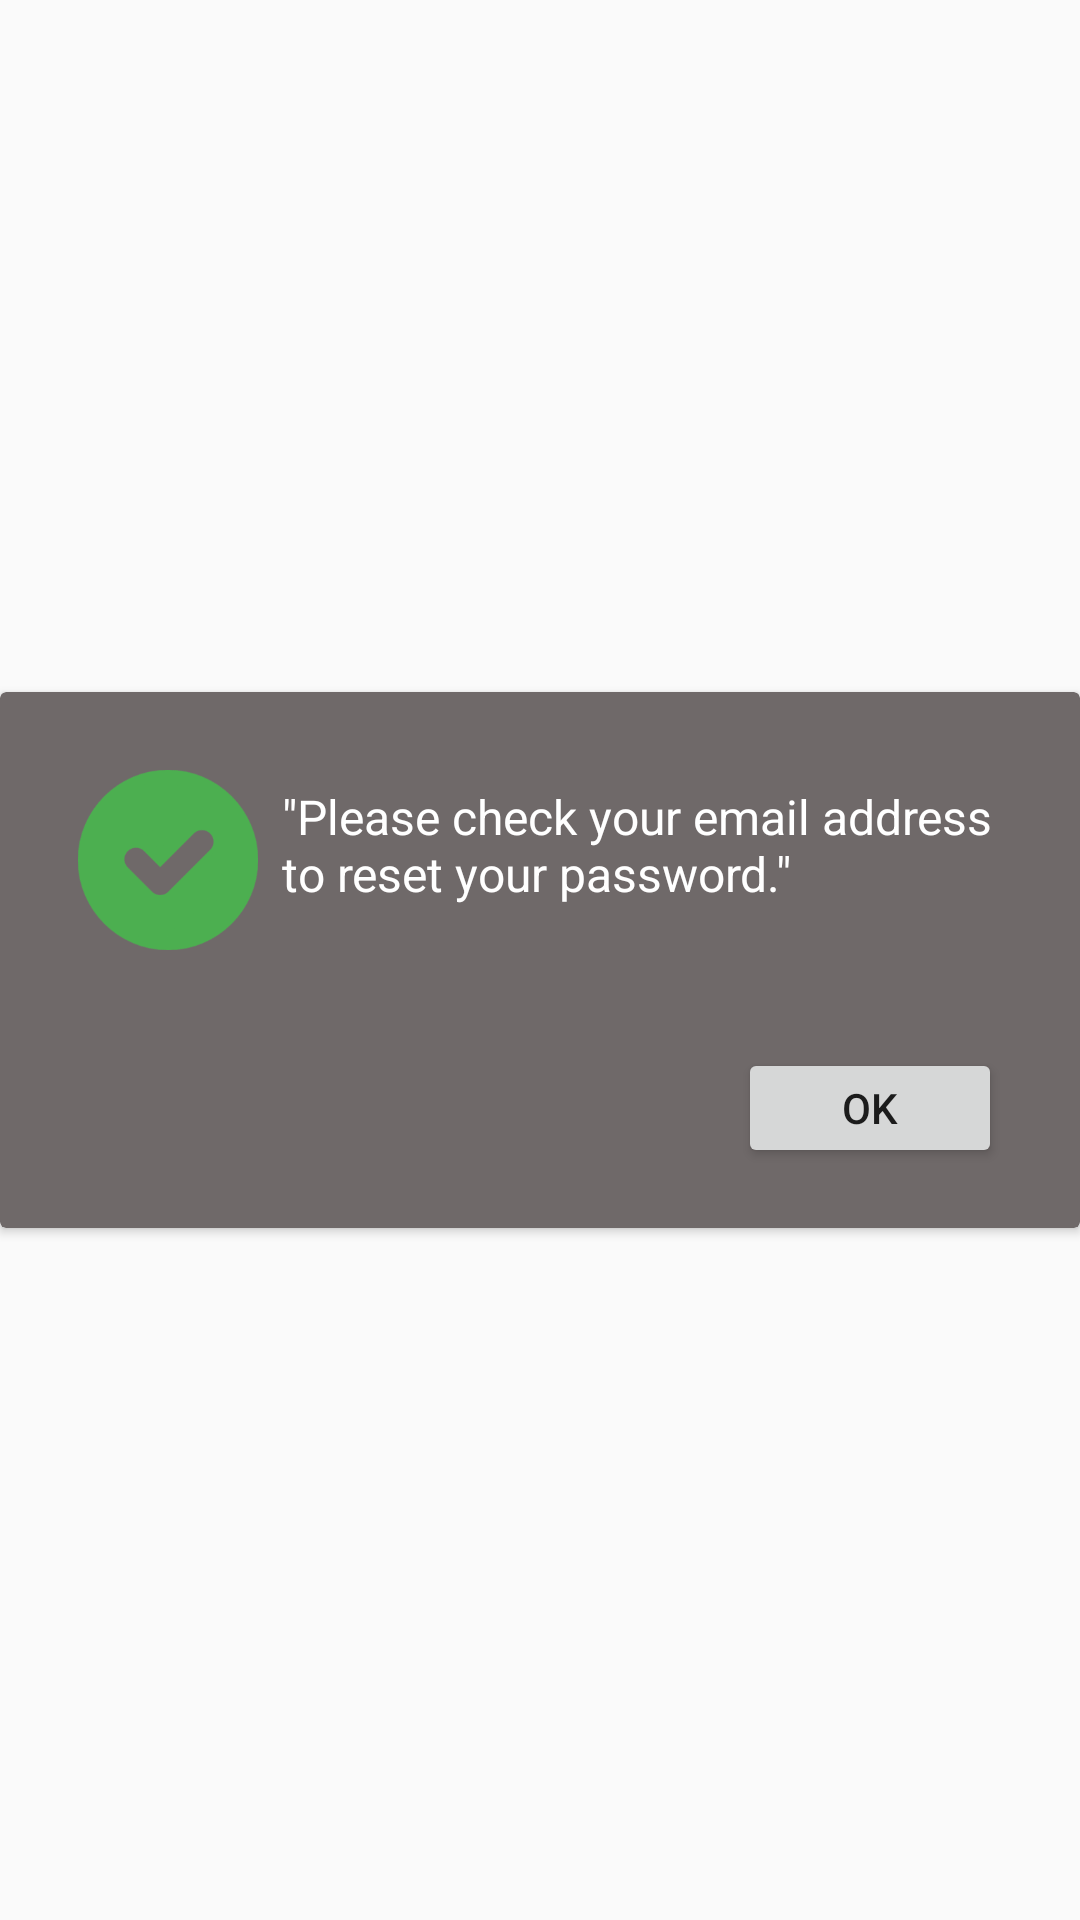

Point at icon controls on the screen. Image size 1080×1920, points as [x,y].
successful: [168,860]
